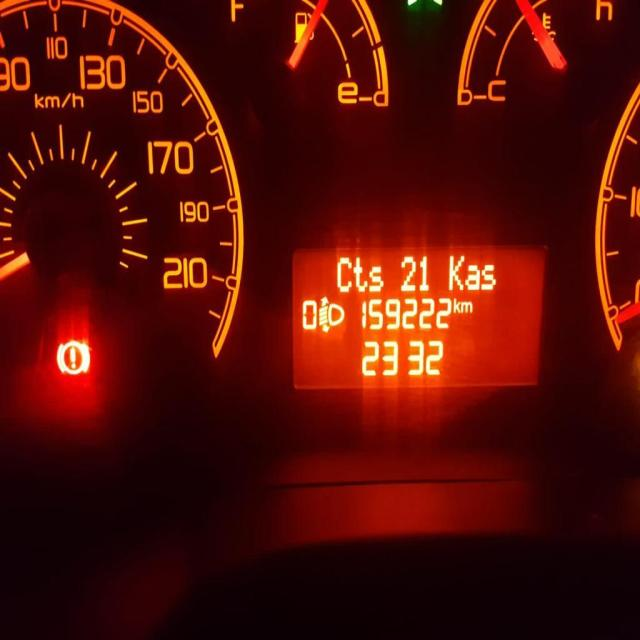odometer: (287, 242, 547, 395)
